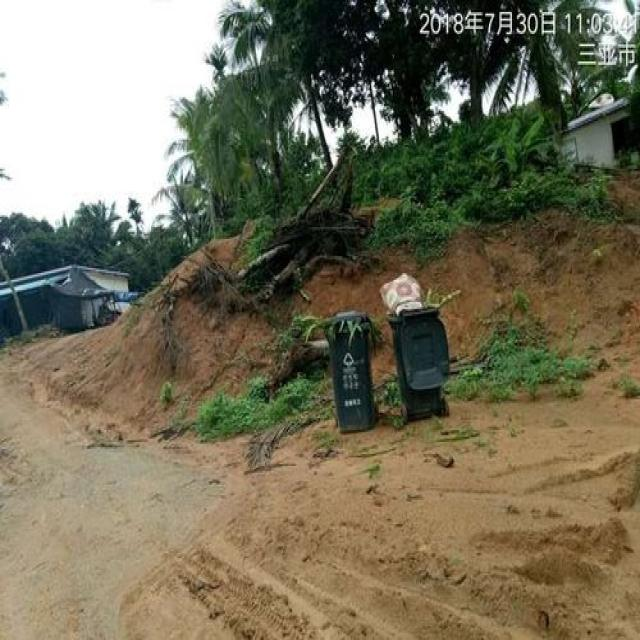overflow: (378, 272, 458, 416), (298, 309, 382, 430)
